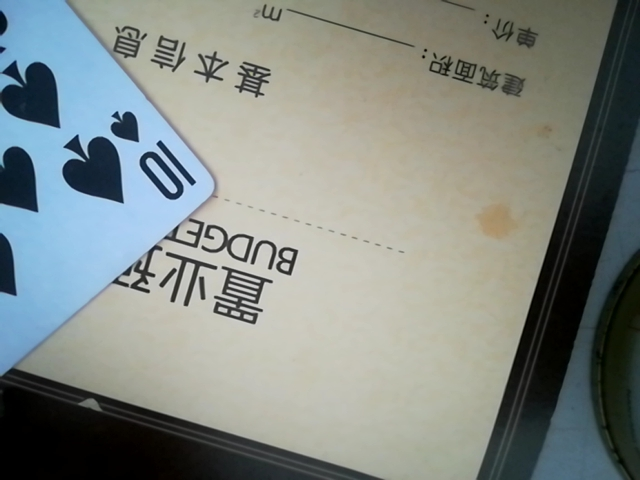ht 10: (0, 0, 221, 405)
